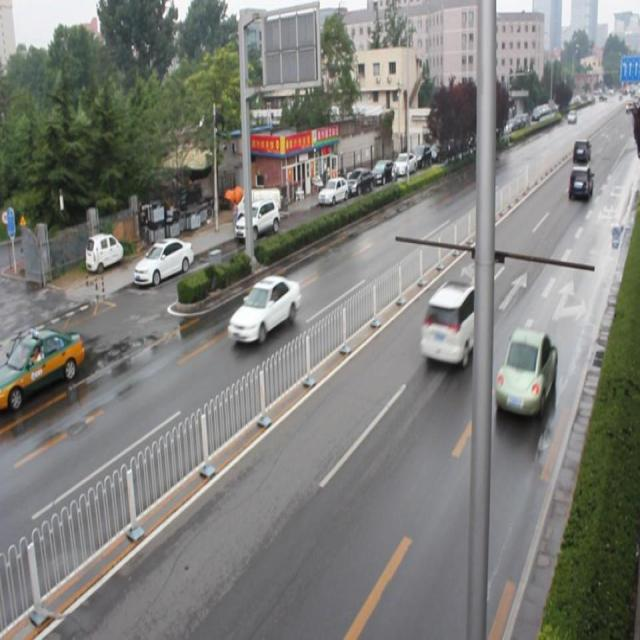car: (421, 277, 484, 370), (496, 326, 555, 417), (227, 275, 299, 345)
truck: (567, 164, 592, 202)
